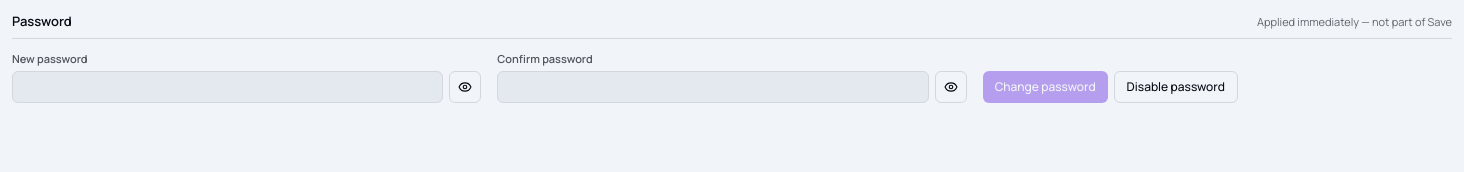
shows a generic message when a password change fails unexpectedly
The image size is (1464, 172).
In the password field labelled "New password": (228, 87) [12,71,443,103], type "test-only-password"
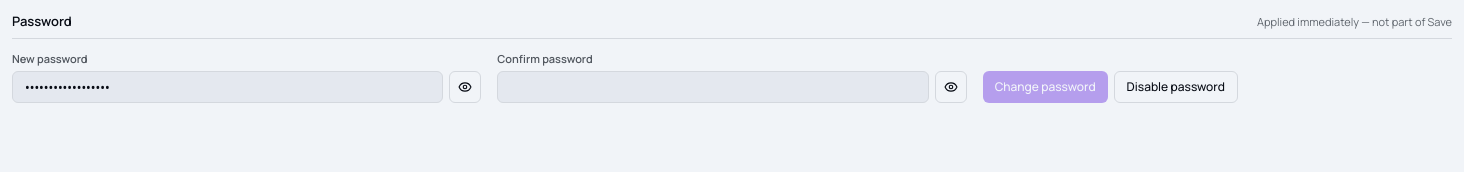
In the password field labelled "Confirm password": (713, 87) [497,71,929,103], type "test-only-password"
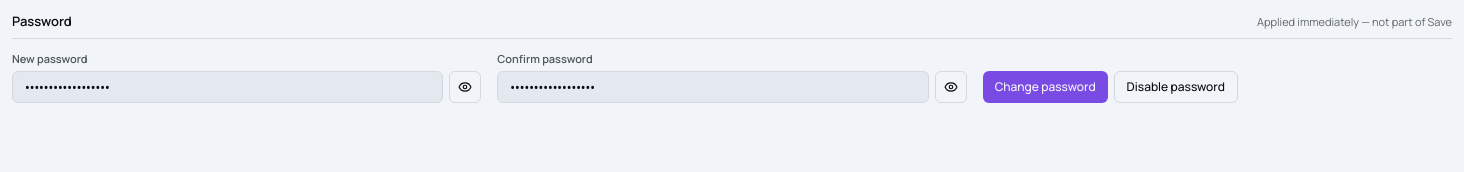
Click the button "Change password": (1045, 87) [983,71,1108,103]
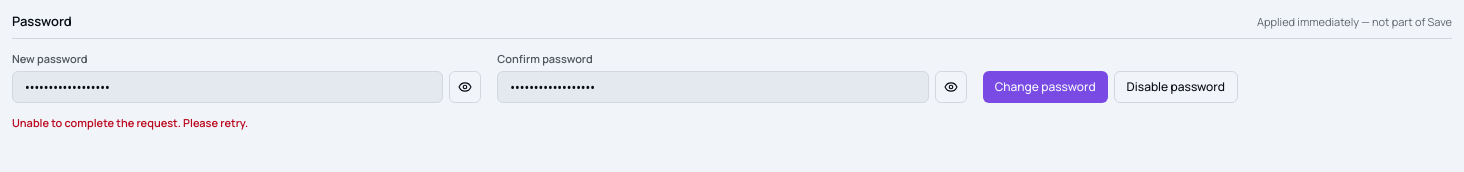
Expected: the message reads "Unable to complete the request. Please retry.", [12,115,248,130]
